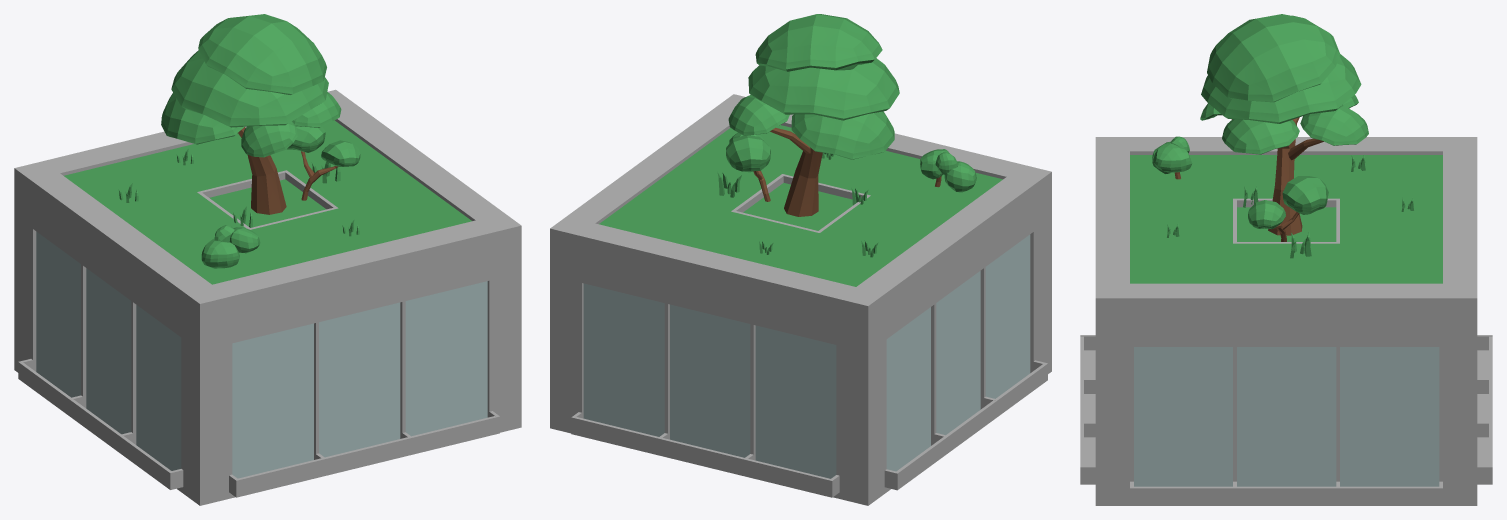
Rendered from TopElement2.fbx.
The picture shows the model from 3 angles, left to right: view 1: azimuth 30°, elevation 25°; view 2: azimuth 150°, elevation 25°; view 3: azimuth 270°, elevation 25°; orthographic projection. The views are drawn at different scales.
Visible parts, largest first — view 1: Bush_temp_climate_001.006; view 2: Bush_temp_climate_001.006; view 3: Bush_temp_climate_001.006.
Boxes of the visible parts, left/top/right/bottom form: Bush_temp_climate_001.006: left=14, top=14, right=521, bottom=505; Bush_temp_climate_001.006: left=550, top=14, right=1051, bottom=505; Bush_temp_climate_001.006: left=1080, top=14, right=1492, bottom=505.
Bounding box in the file's own units: 108 × 114 × 108.
